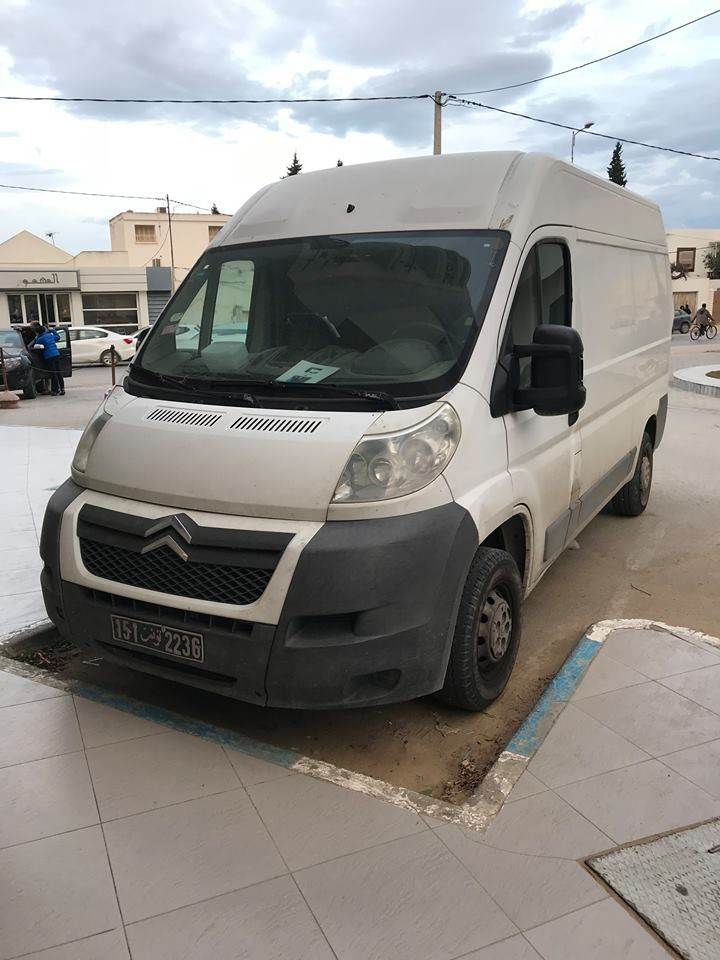LP: (109, 613, 204, 661)
